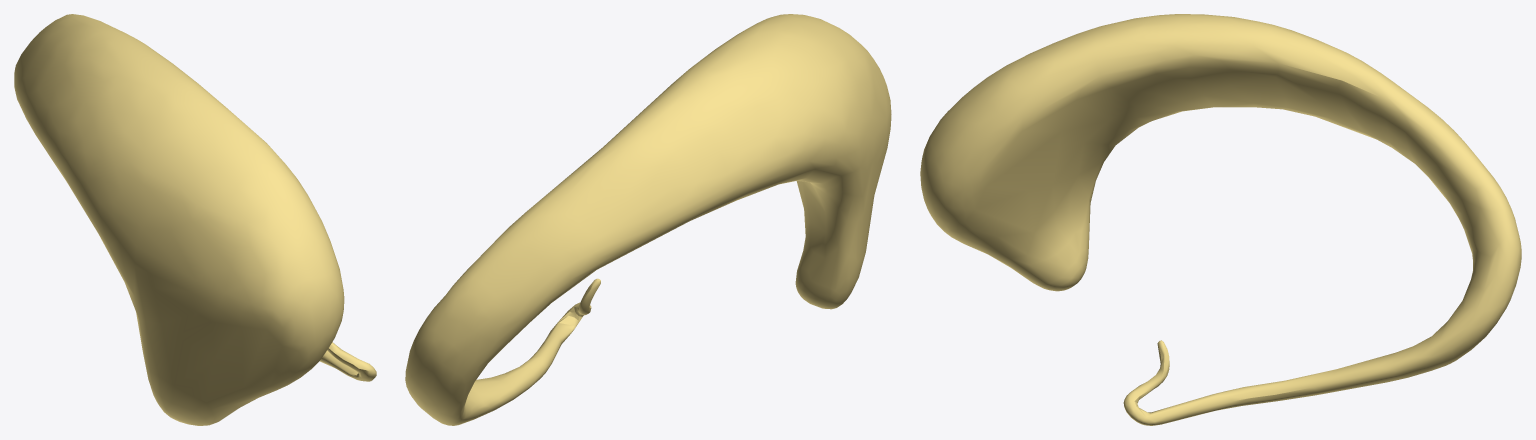
Rendered from fma72827_fj1754.glb.
3 views of the same model, side by side, from view 1: azimuth 30°, elevation 25°; view 2: azimuth 150°, elevation 25°; view 3: azimuth 270°, elevation 25° (orthographic). The views are drawn at different scales.
Visible parts, largest first — view 1: FMA72827_FJ1754; view 2: FMA72827_FJ1754; view 3: FMA72827_FJ1754.
Boxes of the visible parts, box(x1,y1,x2,y2) form: FMA72827_FJ1754: box(14, 14, 376, 425); FMA72827_FJ1754: box(405, 14, 891, 425); FMA72827_FJ1754: box(920, 14, 1521, 425).
Size of the model in its own units: 0.0318 by 0.0371 by 0.0636.
